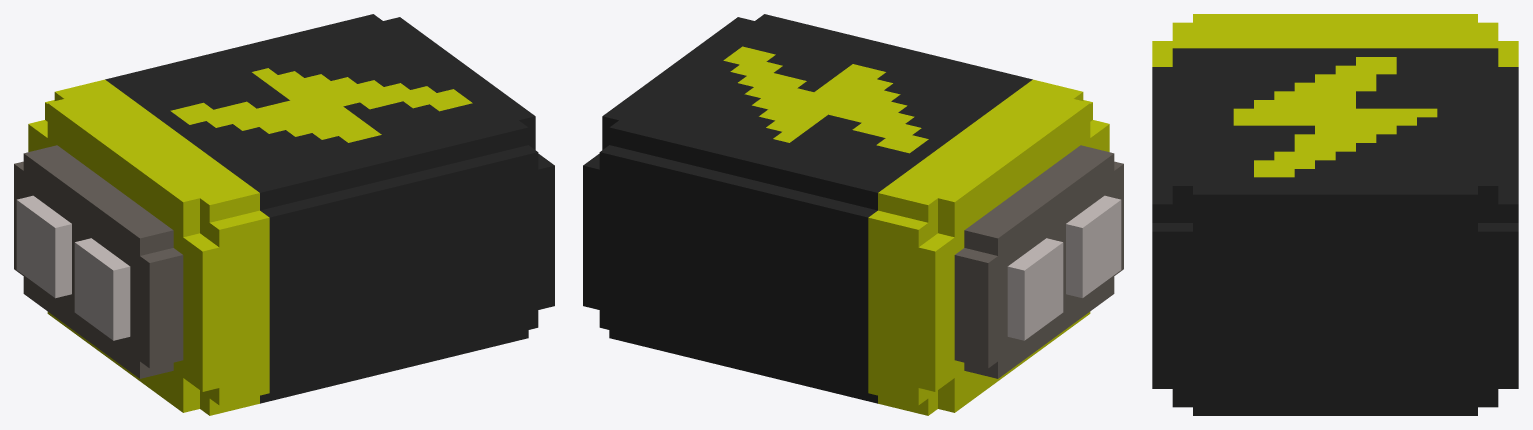
Rendered from BigBatteryPickUp.obj.
3 renders of one model, left to right at view 1: azimuth 30°, elevation 25°; view 2: azimuth 150°, elevation 25°; view 3: azimuth 270°, elevation 25°, orthographic. The views are drawn at different scales.
Visible parts, largest first — view 1: BigBatteryPickUp; view 2: BigBatteryPickUp; view 3: BigBatteryPickUp.
Part boxes in pixels (x1,y1,x2,y2): BigBatteryPickUp: (14, 14, 554, 415); BigBatteryPickUp: (583, 14, 1123, 415); BigBatteryPickUp: (1152, 14, 1518, 415).
Bounding box in the file's own units: 24 × 12 × 18.
